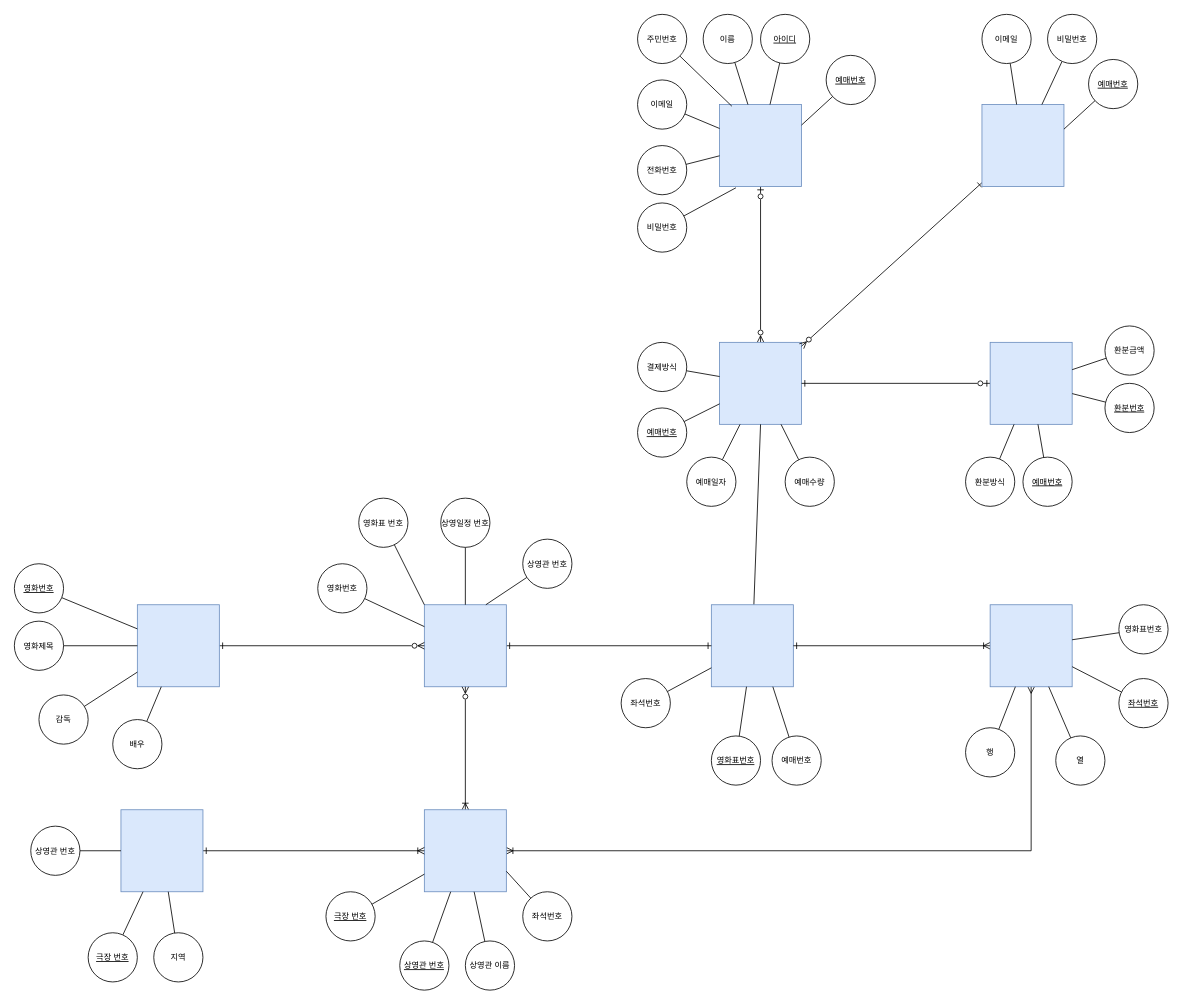
This 1182x1005 diagram has some shape labels left out. Each missing label, with the centre of its shape:
"극장" goes at point (161, 850).
"비회원" goes at point (1022, 145).
"상영 정보" goes at point (465, 645).
"상영관" goes at point (465, 850).
"영화" goes at point (178, 645).
"영화표" goes at point (752, 645).
"예매" goes at point (760, 383).
"좌석" goes at point (1030, 645).
"환불" goes at point (1030, 383).
"회원" goes at point (760, 145).
